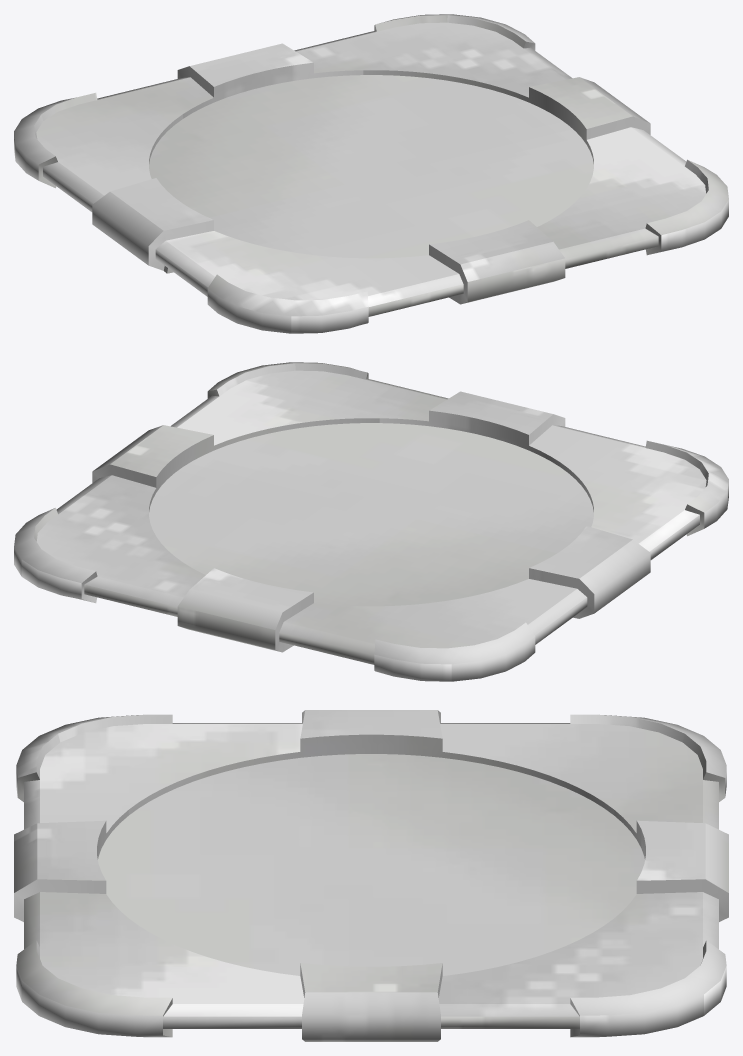
File: PlatformBaseSection.fbx
3 renders of one model, top to bottom at view 1: azimuth 30°, elevation 25°; view 2: azimuth 150°, elevation 25°; view 3: azimuth 270°, elevation 25°, orthographic. The views are drawn at different scales.
Visible parts, largest first — view 1: pCube283; view 2: pCube283; view 3: pCube283.
Part boxes in pixels (x1,y1,x2,y2): pCube283: [14, 14, 728, 333]; pCube283: [14, 362, 728, 681]; pCube283: [14, 710, 728, 1041].
Size of the model in its own units: 539 by 42 by 539.
Materials: 1 (1 with a texture image).
